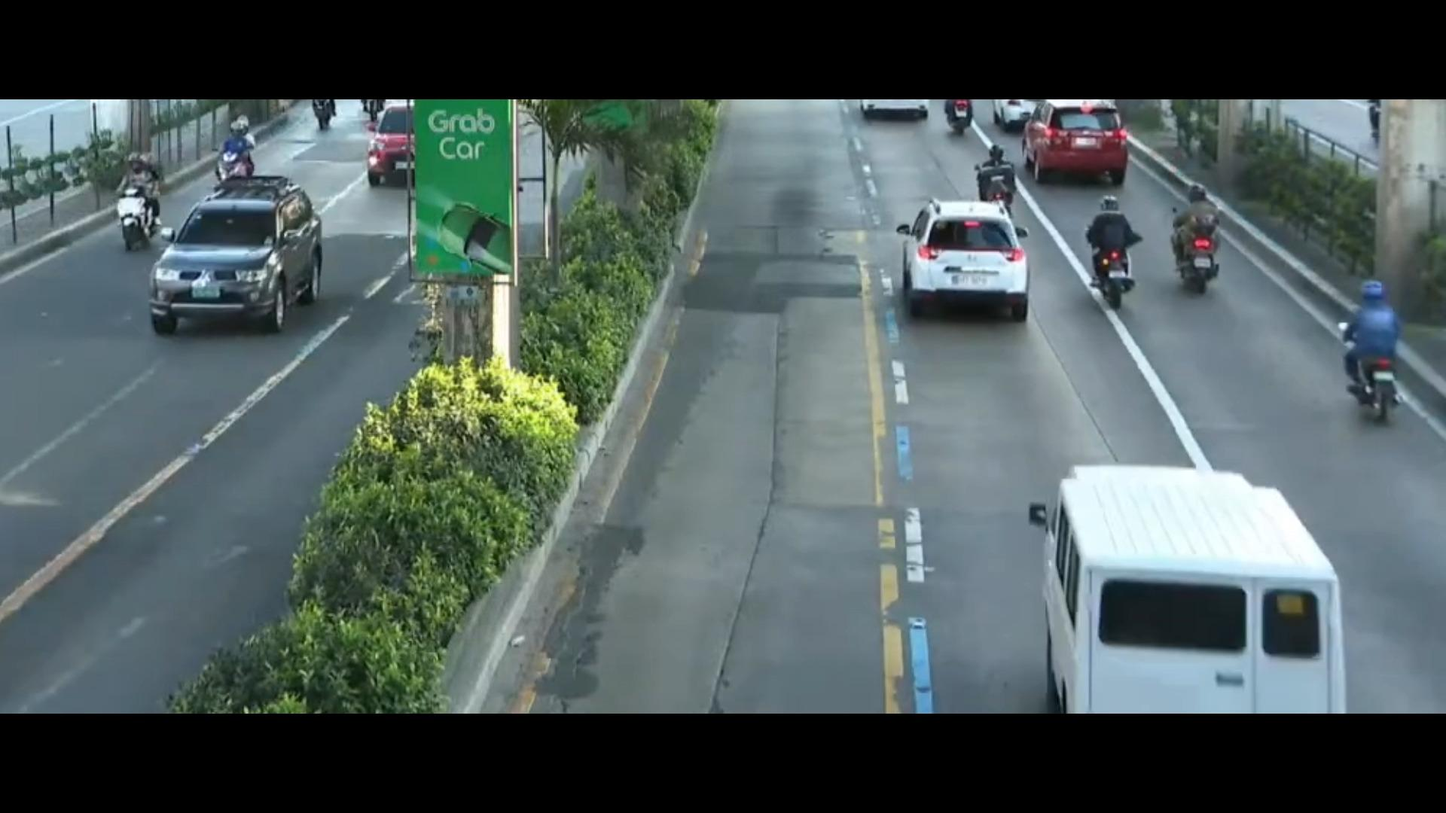Motorcycle: (73, 140, 181, 264), (1331, 264, 1414, 422), (1158, 179, 1230, 316), (1076, 198, 1149, 324), (207, 94, 283, 179), (975, 138, 1042, 190), (298, 98, 343, 130), (942, 104, 976, 134)
Multicab: (1033, 448, 1370, 718)
SUV: (146, 155, 341, 343), (874, 172, 1055, 321), (1021, 98, 1143, 192), (345, 91, 418, 187)
